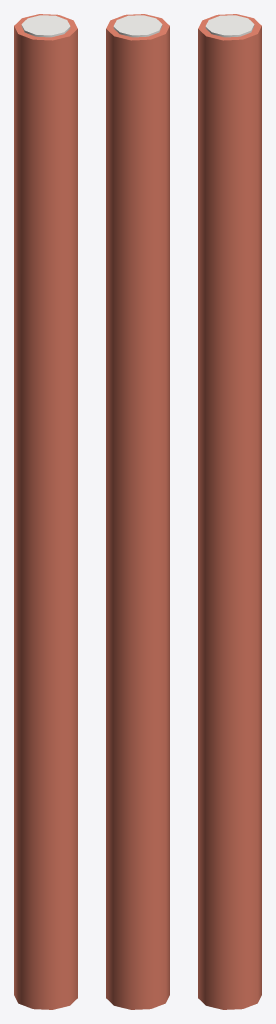
The model's file is crab.glb.
3 renders of one model, left to right at view 1: azimuth 30°, elevation 25°; view 2: azimuth 150°, elevation 25°; view 3: azimuth 330°, elevation 25°, orthographic.
Parts seen in each view (by area): view 1: red_skin, white_core; view 2: red_skin, white_core; view 3: red_skin, white_core.
Boxes of the visible parts, x1,y1,x2,y2 form: red_skin: [14, 14, 77, 1009]; white_core: [21, 15, 70, 37]; red_skin: [106, 14, 169, 1009]; white_core: [113, 15, 162, 37]; red_skin: [198, 14, 261, 1009]; white_core: [205, 15, 254, 37].
Size of the model in its own units: 0.06 by 1 by 0.0571.
